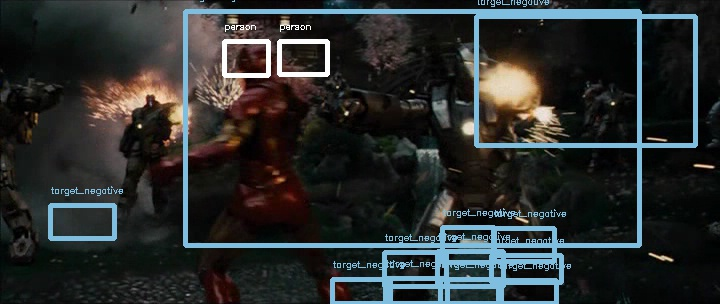person: (236, 53, 277, 86), (235, 53, 276, 86), (237, 53, 278, 86), (236, 52, 277, 85), (236, 54, 277, 87)
target_negative: (43, 99, 651, 285), (197, 110, 447, 240), (437, 88, 591, 214), (367, 39, 671, 95), (476, 18, 512, 80), (564, 254, 654, 269)
